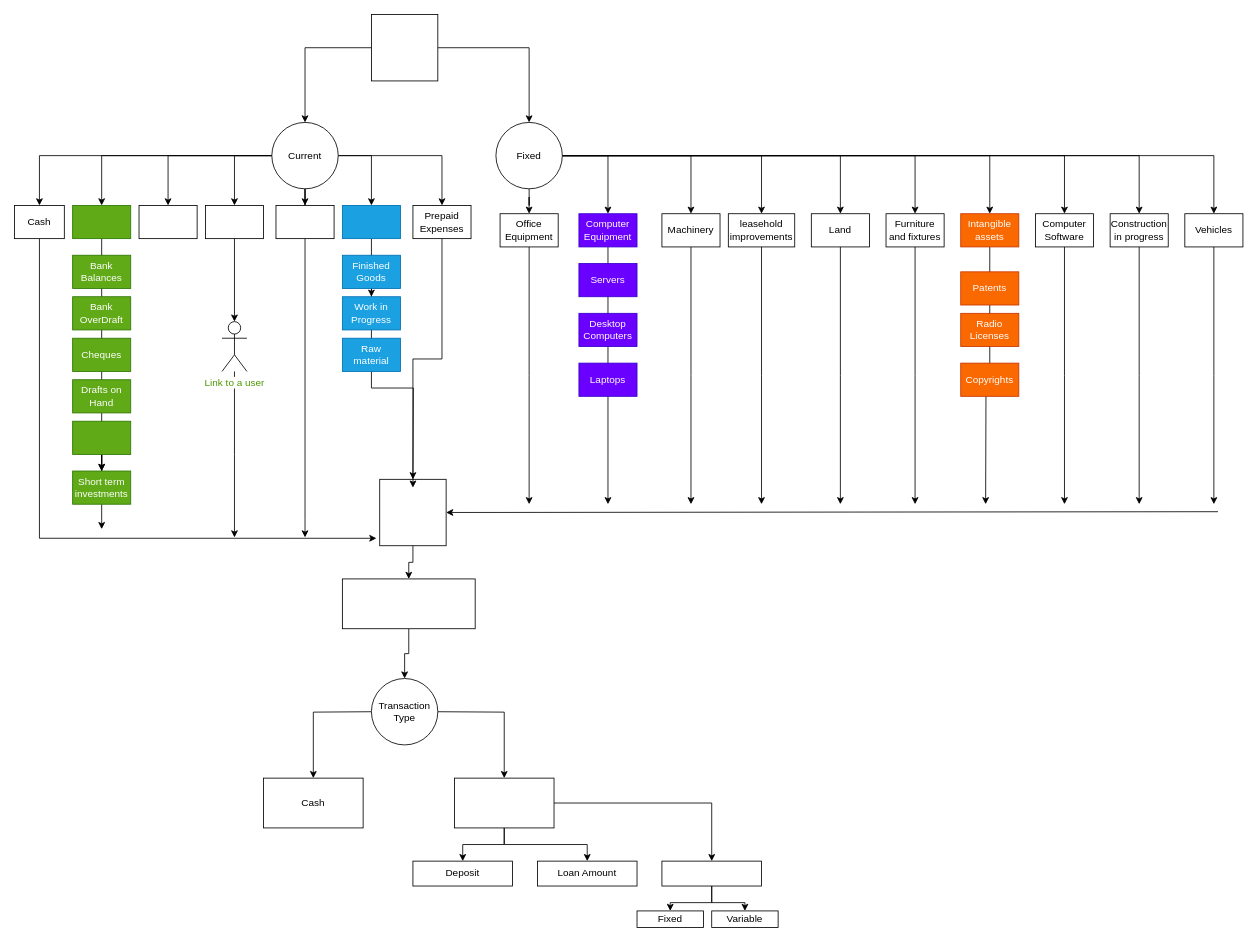
This 1257x942 diagram has some shape labels left out. Each missing label, with the box of its shape:
Accounts Receivalbe: (205, 205, 264, 239)
Appreciation/Depreciation: (342, 578, 475, 629)
Cash Equivalent: (72, 205, 131, 239)
Credit: (454, 777, 554, 828)
Demand Deposit: (72, 420, 131, 454)
Interest: (661, 860, 762, 886)
Liability: (371, 14, 438, 81)
Marketable Securities: (275, 205, 334, 239)
Other Liquid Assets: (138, 205, 197, 239)
Stock or Inventory: (342, 205, 400, 239)
Value: (379, 478, 446, 546)
